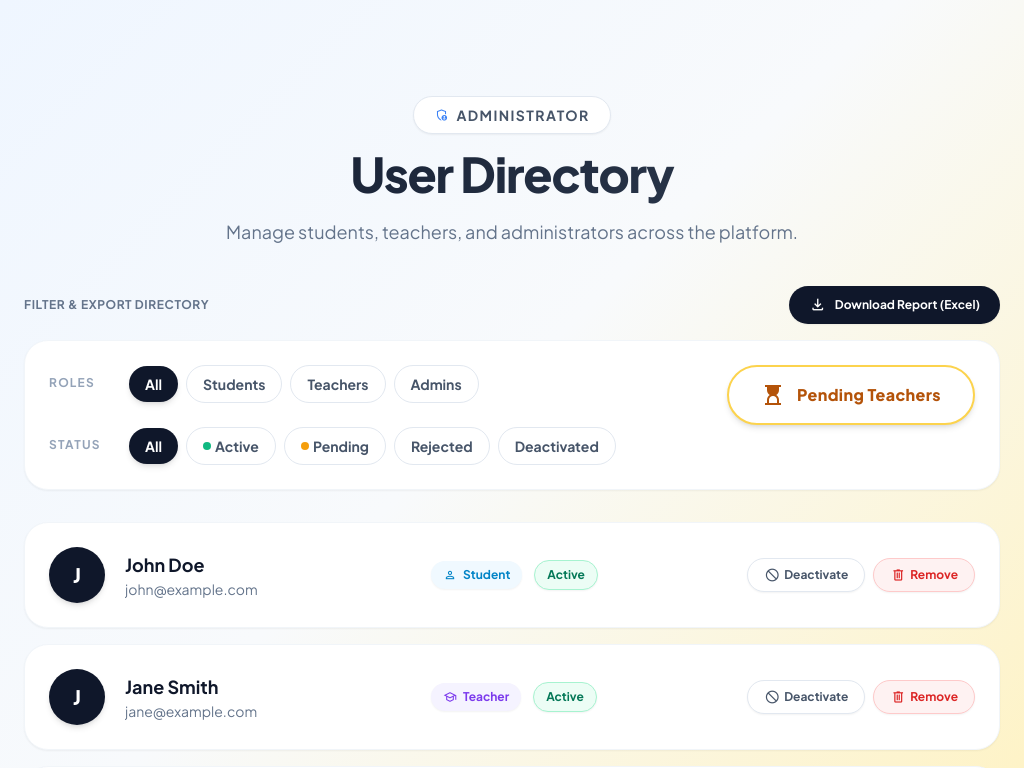
Test: AdminUsersPage › the Pending Teacher Applications button requests role=Teacher&status=Pending
Expected: the heading "John Doe" is shown, [125,553,204,576]
What coordinates should you click on to do the following:
click the button "Pending Teachers"
I would click on:
 (851, 395)
Its box is [727,365,975,425].
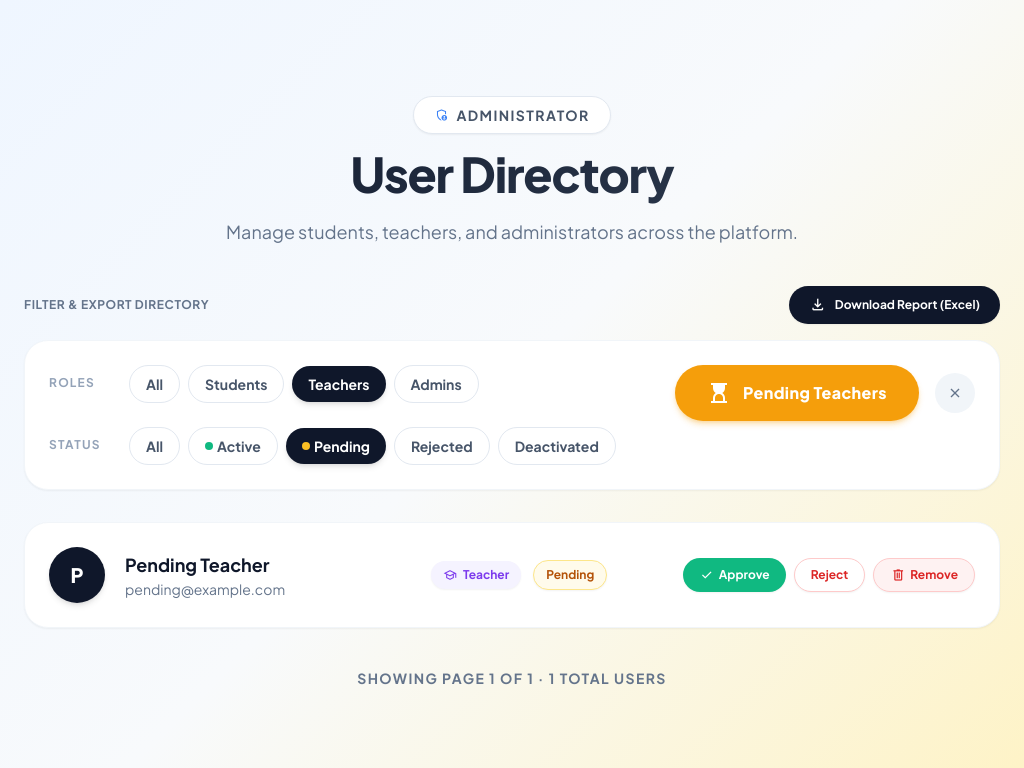
Result: the heading "Pending Teacher" is shown at [125,551,285,579]
Result: the heading "John Doe" is gone
